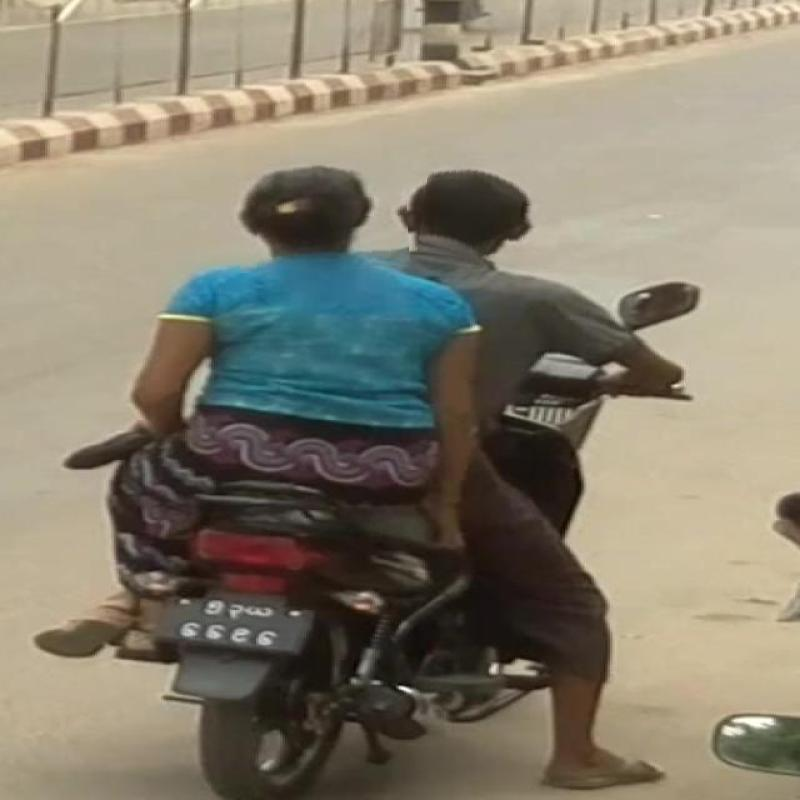nohelmet: (236, 163, 409, 272), (420, 163, 565, 266)
